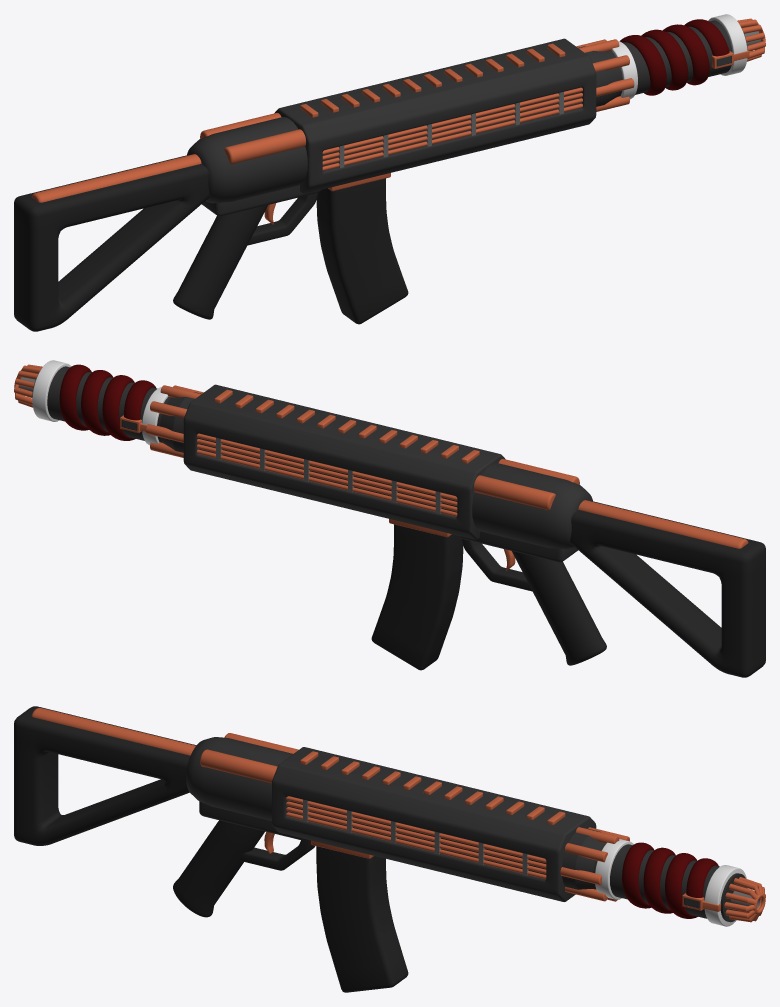
File: raygun.fbx
3 renders of one model, top to bottom at view 1: azimuth 30°, elevation 25°; view 2: azimuth 150°, elevation 25°; view 3: azimuth 330°, elevation 25°, orthographic.
Parts seen in each view (by area): view 1: Barrel, Stock, Energy Canister, Handle Connector.001, Handle, Main Grill, Spiral, Handle Connector Holders, Stock Holder, Top Bumps, Firing Barrel, Supports (+7 smaller); view 2: Barrel, Stock, Energy Canister, Handle Connector.001, Handle, Main Grill, Spiral, Handle Connector Holders, Stock Holder, Top Bumps, Firing Barrel, Supports (+7 smaller); view 3: Barrel, Stock, Energy Canister, Handle Connector.001, Main Grill, Handle, Spiral, Stock Holder, Top Bumps, Handle Connector Holders, Firing Barrel, Supports (+7 smaller).
Part boxes in pixels (bbox=[...]): Barrel: bbox=[274, 38, 596, 193]; Stock: bbox=[14, 155, 209, 331]; Energy Canister: bbox=[316, 178, 408, 324]; Handle Connector.001: bbox=[187, 117, 307, 203]; Handle: bbox=[173, 205, 267, 319]; Main Grill: bbox=[322, 87, 582, 170]; Spiral: bbox=[620, 19, 729, 95]; Handle Connector Holders: bbox=[200, 113, 305, 164]; Stock Holder: bbox=[31, 154, 201, 202]; Top Bumps: bbox=[300, 43, 565, 117]; Firing Barrel: bbox=[622, 20, 732, 94]; Supports: bbox=[576, 39, 634, 111]; Barrel: bbox=[183, 384, 505, 539]; Stock: bbox=[570, 501, 765, 677]; Energy Canister: bbox=[371, 524, 463, 670]; Handle Connector.001: bbox=[472, 463, 592, 549]; Handle: bbox=[512, 551, 606, 665]; Main Grill: bbox=[197, 433, 457, 516]; Spiral: bbox=[59, 364, 155, 440]; Handle Connector Holders: bbox=[474, 459, 579, 510]; Stock Holder: bbox=[578, 500, 748, 548]; Top Bumps: bbox=[214, 389, 479, 463]; Firing Barrel: bbox=[47, 366, 157, 440]; Supports: bbox=[145, 385, 203, 457]; Barrel: bbox=[272, 747, 596, 901]; Stock: bbox=[14, 706, 196, 845]; Energy Canister: bbox=[316, 846, 408, 992]; Handle Connector.001: bbox=[186, 737, 292, 820]; Main Grill: bbox=[286, 796, 546, 879]; Handle: bbox=[173, 820, 265, 917]; Spiral: bbox=[622, 842, 718, 918]; Stock Holder: bbox=[31, 707, 195, 755]; Top Bumps: bbox=[300, 751, 565, 824]; Handle Connector Holders: bbox=[200, 733, 298, 783]; Firing Barrel: bbox=[610, 844, 719, 918]; Supports: bbox=[560, 827, 629, 901].
Bounding box in the file's own units: 17.24 × 4.93 × 1.53.
